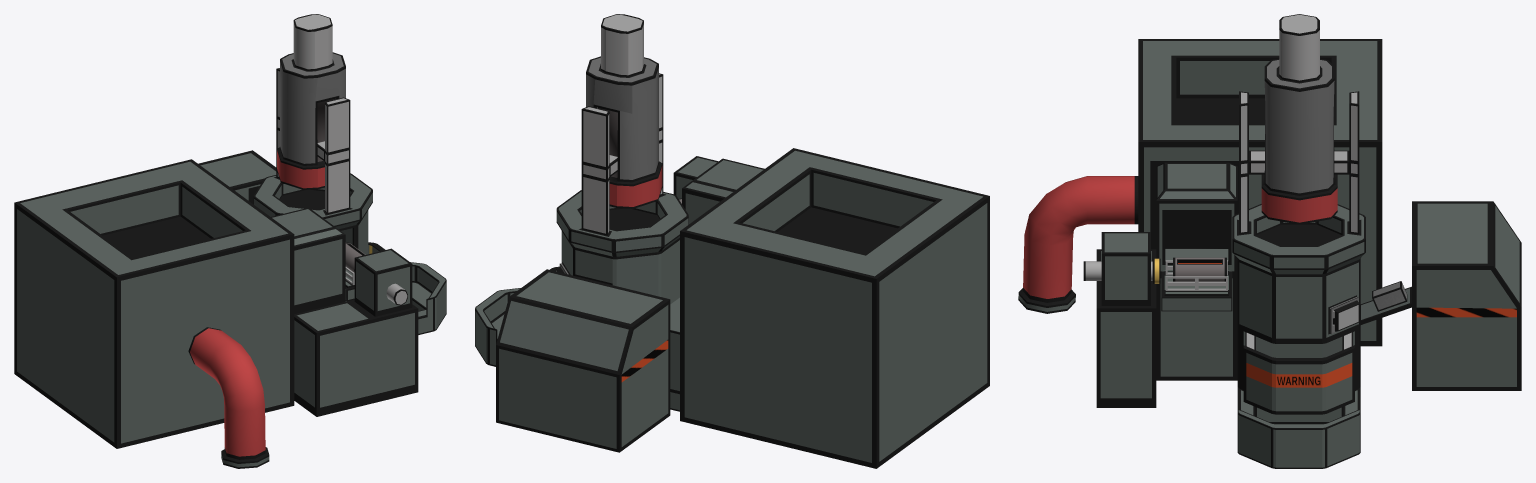
Rendered from Environment2_Mics_Metal_Refining.fbx.
The picture shows the model from 3 angles, left to right: view 1: azimuth 30°, elevation 25°; view 2: azimuth 150°, elevation 25°; view 3: azimuth 270°, elevation 25°; orthographic projection. The views are drawn at different scales.
Visible parts, largest first — view 1: Mould machine, Piston; view 2: Mould machine, Piston; view 3: Mould machine, Piston, finished piece tray, Molten pit hatch, Metal containers, Ingot, Piston for insertion.
Part boxes in pixels (x1,y1,x2,y2): Mould machine: [14, 68, 446, 468]; Piston: [277, 14, 345, 189]; Mould machine: [475, 73, 989, 468]; Piston: [586, 14, 662, 208]; Mould machine: [1018, 39, 1521, 468]; Piston: [1261, 14, 1337, 224]; finished piece tray: [1243, 332, 1354, 414]; Molten pit hatch: [1161, 260, 1232, 311]; Metal containers: [1173, 257, 1226, 281]; Ingot: [1372, 281, 1407, 311]; Piston for insertion: [1083, 258, 1160, 283].
Size of the model in its own units: 13.09 by 10.28 by 12.37.
